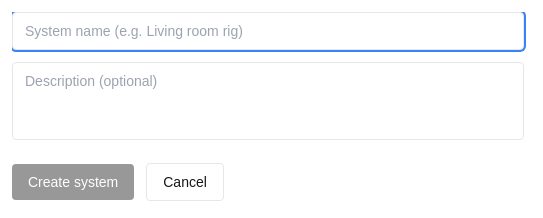
Test case: CreateSystemForm › Submission › shows "Creating…" while the request is in flight
The width and height of the screenshot is (543, 218).
Type "My rig" into the field with placeholder "System name (e.g. Living room rig)" at [268, 31], box [12,12,524,50]
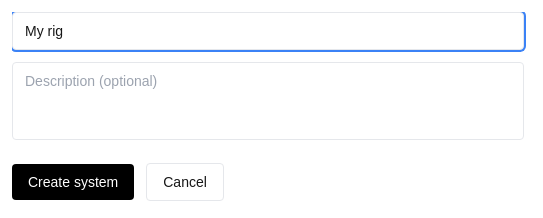
Click the button "Create system" at [73, 182], box [12,164,134,200]
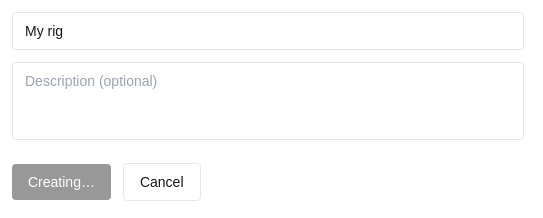
Expected: the button "Creating…" is disabled, [12,164,111,200]
